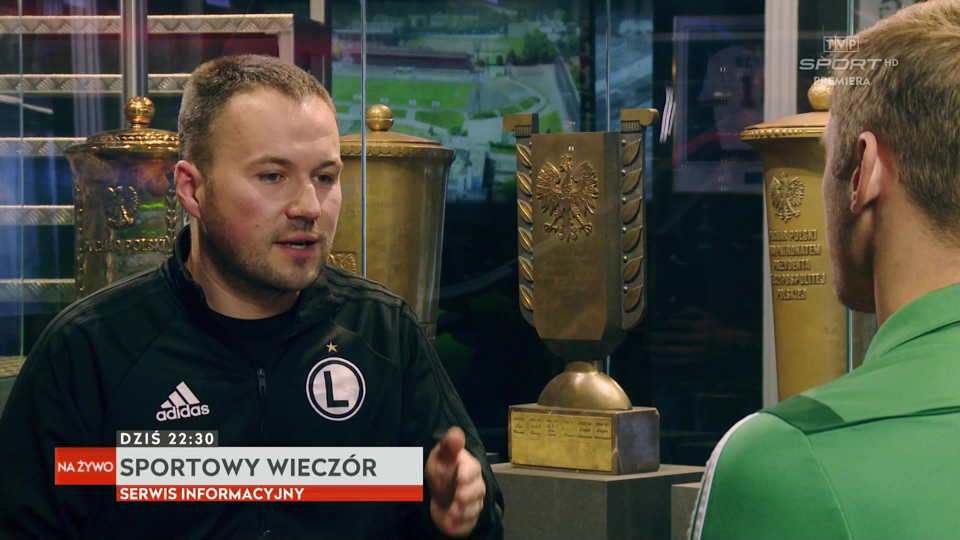Adidas: (157, 379, 211, 422)
